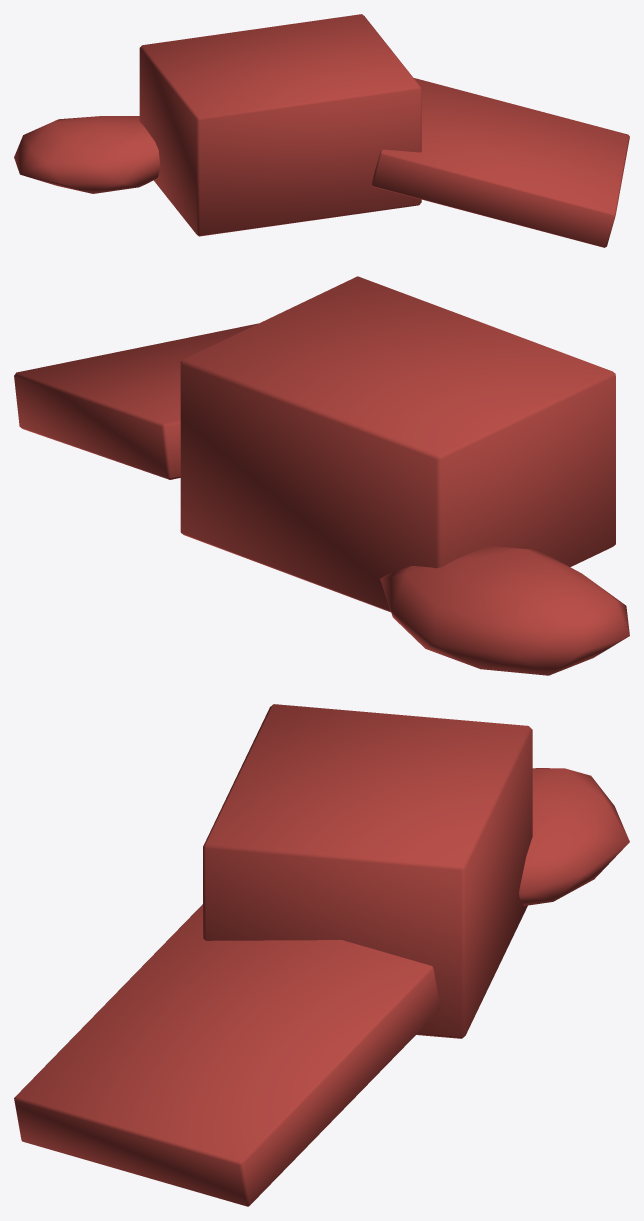
File: present_open.glb
3 renders of one model, top to bottom at view 1: azimuth 30°, elevation 25°; view 2: azimuth 150°, elevation 25°; view 3: azimuth 270°, elevation 25°, orthographic. The views are drawn at different scales.
Visible parts, largest first — view 1: present_open; view 2: present_open; view 3: present_open.
Boxes of the visible parts, box(x1,y1,x2,y2) form: present_open: box(14, 14, 629, 247); present_open: box(14, 276, 629, 675); present_open: box(14, 704, 629, 1206).
Bounding box in the file's own units: 0.9011 × 0.2441 × 0.6437.
